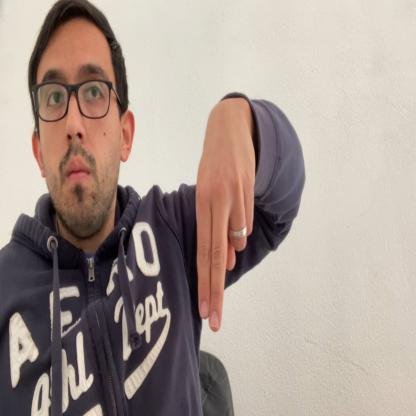N: (194, 89, 254, 335)
